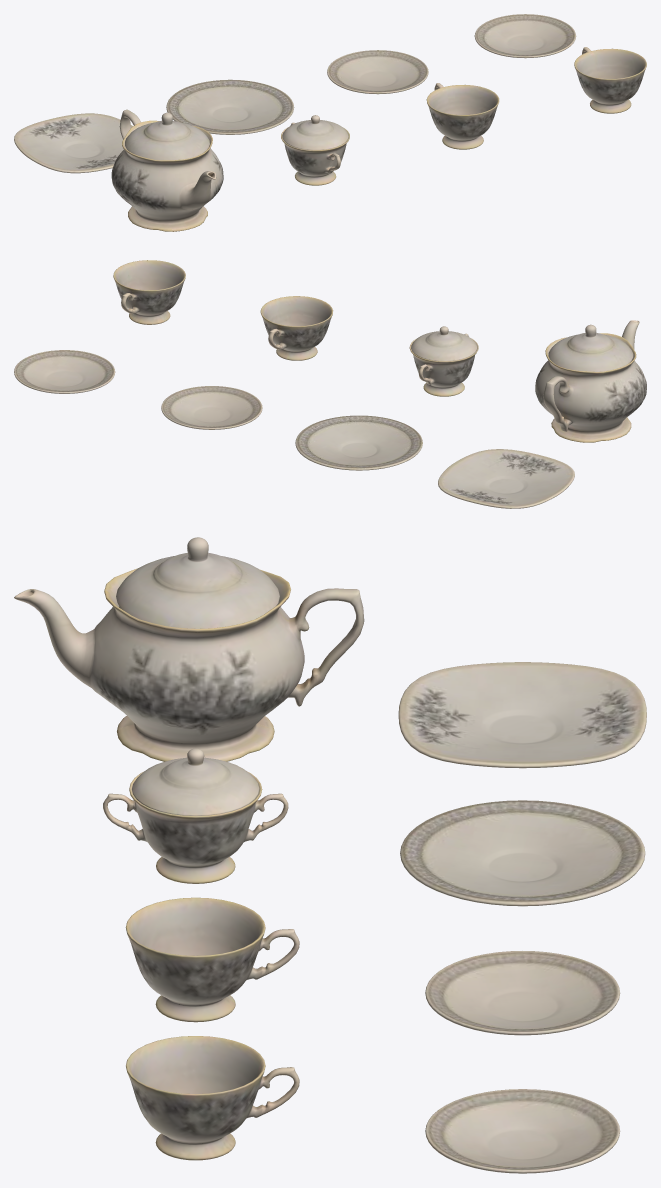
The model's file is tea-service-02db0c23889a.glb.
3 renders of one model, top to bottom at view 1: azimuth 30°, elevation 25°; view 2: azimuth 150°, elevation 25°; view 3: azimuth 270°, elevation 25°, orthographic. The views are drawn at different scales.
Visible parts, largest first — view 1: tea_set_01_plate_large_square_01; view 2: tea_set_01_plate_large_square_01; view 3: tea_set_01_plate_large_square_01.
Part boxes in pixels (x1,y1,x2,y2): tea_set_01_plate_large_square_01: [14, 14, 646, 231]; tea_set_01_plate_large_square_01: [14, 260, 646, 508]; tea_set_01_plate_large_square_01: [14, 537, 646, 1173].
Size of the model in its own units: 0.9185 by 0.165 by 0.4839.
1 material, 1 textured.
